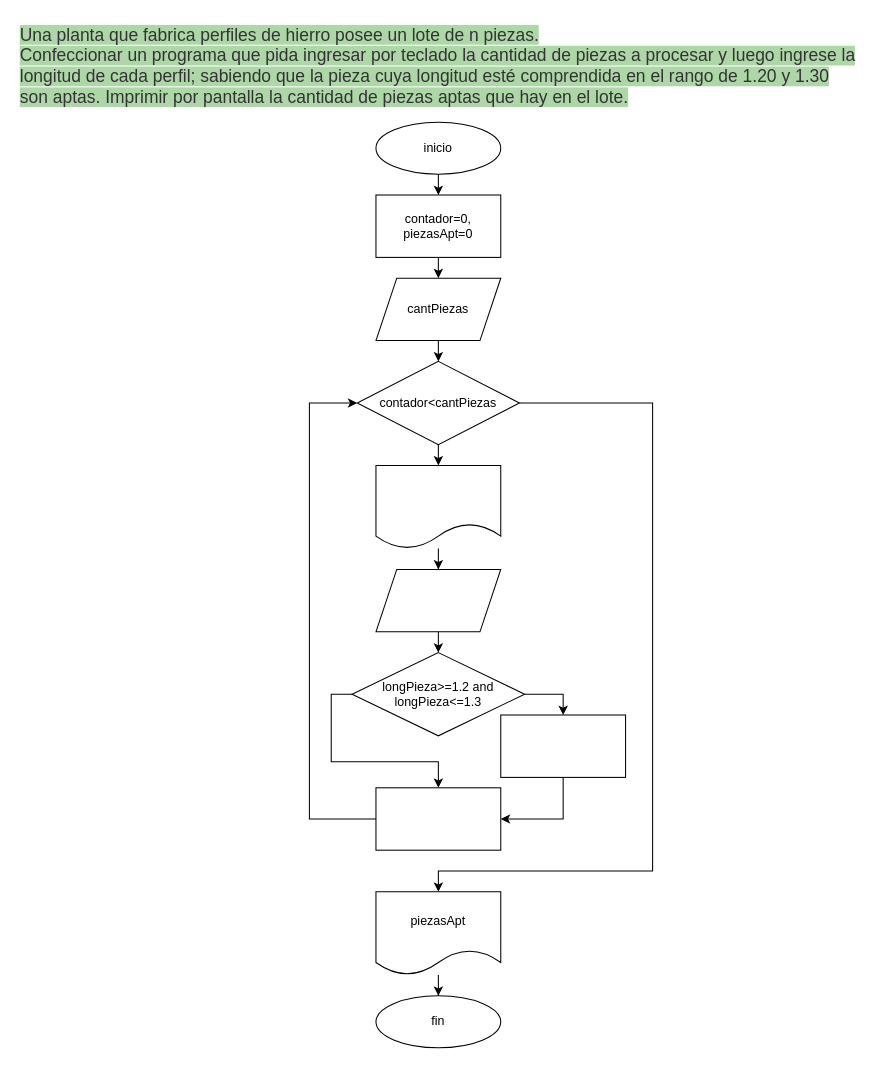
Some shapes in this 878 by 1066 pixel diagram are drawn without their labels. Each missing label, with the box of its shape:
"Perfil pieza #"+´(contador+1): (375, 464, 501, 549)
contador+=1: (375, 787, 501, 850)
longPieza: (375, 568, 501, 632)
piezasApt+=1: (500, 714, 626, 777)
